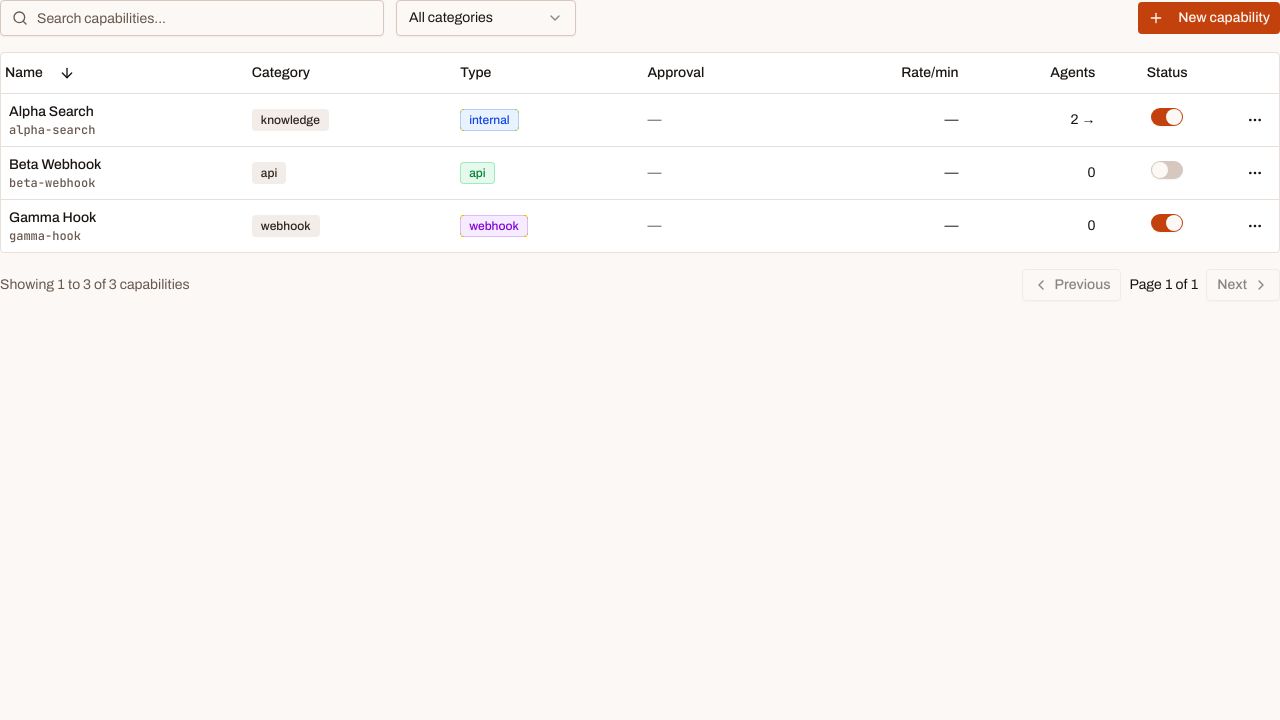
Scenario: CapabilitiesTable › agent-list popover › each agent row renders both name and slug and links to /admin/orchestration/agents/{id}
Click the button "2 →": (1083, 120) [1070, 110, 1095, 130]
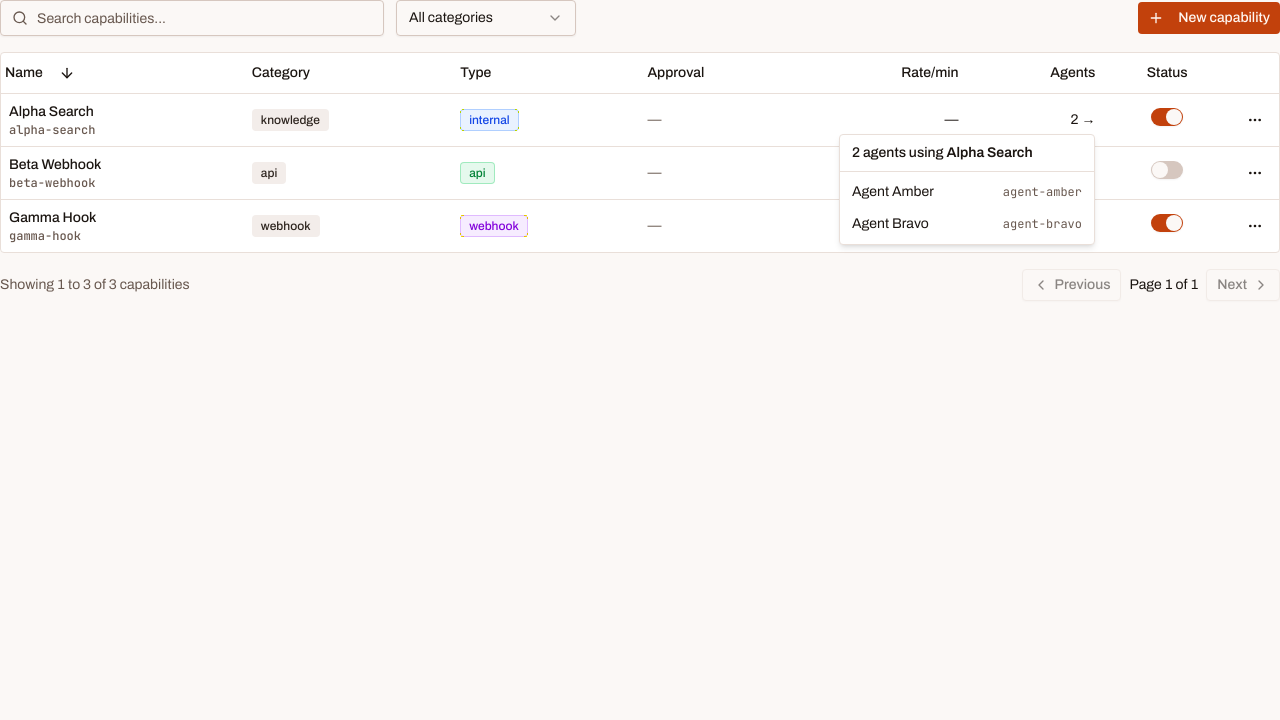
Expected: the text "Agent Amber" is shown, [852, 182, 934, 202]
Expected: the text "agent-amber" is shown, [1003, 184, 1082, 200]
Expected: the text "Agent Bravo" is shown, [852, 214, 929, 234]
